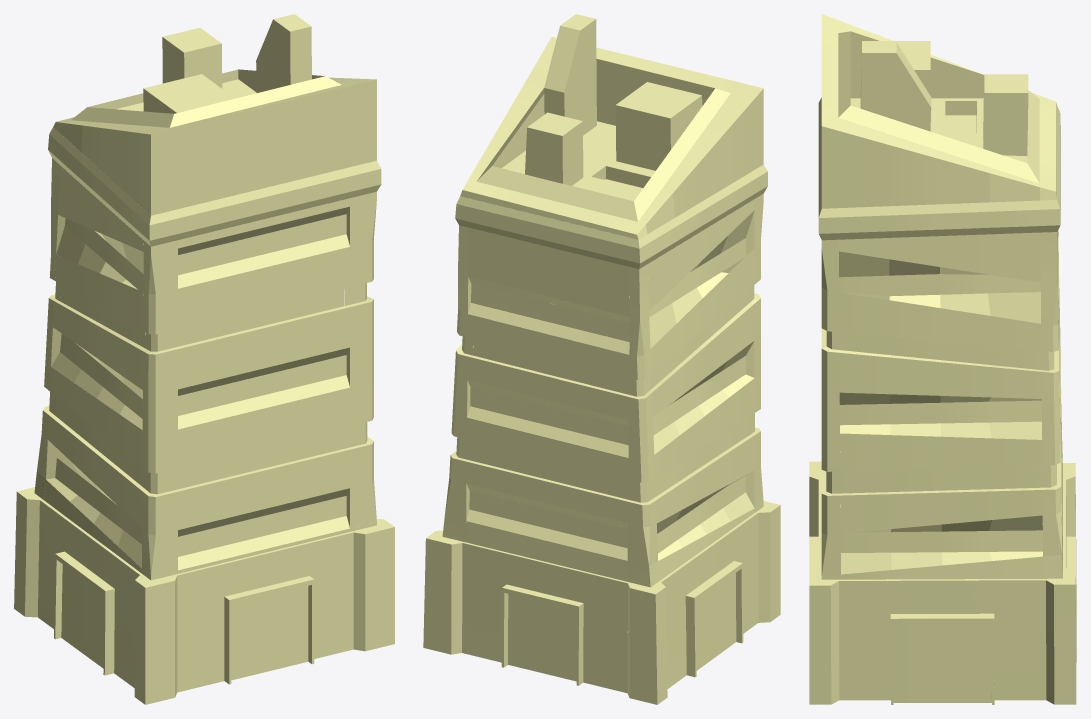
Rendered from MangaKa Props - F_S_ScifiBuilding_24.glb.
3 renders of one model, left to right at view 1: azimuth 30°, elevation 25°; view 2: azimuth 150°, elevation 25°; view 3: azimuth 270°, elevation 25°, orthographic. The views are drawn at different scales.
Visible parts, largest first — view 1: F_S_ScifiBuilding_24_blueScreen, F_S_ScifiBuilding_24004_blueScreen, F_S_ScifiBuilding_24003_blueScreen, F_S_ScifiBuilding_24001_blueScreen, F_S_ScifiBuilding_24002_blueScreen; view 2: F_S_ScifiBuilding_24_blueScreen, F_S_ScifiBuilding_24004_blueScreen, F_S_ScifiBuilding_24003_blueScreen, F_S_ScifiBuilding_24001_blueScreen, F_S_ScifiBuilding_24002_blueScreen; view 3: F_S_ScifiBuilding_24_blueScreen, F_S_ScifiBuilding_24004_blueScreen, F_S_ScifiBuilding_24003_blueScreen, F_S_ScifiBuilding_24001_blueScreen, F_S_ScifiBuilding_24002_blueScreen.
Part boxes in pixels (x1,y1,x2,y2): F_S_ScifiBuilding_24_blueScreen: (25, 77, 376, 692); F_S_ScifiBuilding_24004_blueScreen: (14, 14, 394, 704); F_S_ScifiBuilding_24003_blueScreen: (55, 214, 346, 680); F_S_ScifiBuilding_24001_blueScreen: (46, 206, 349, 570); F_S_ScifiBuilding_24002_blueScreen: (55, 284, 344, 488); F_S_ScifiBuilding_24_blueScreen: (461, 36, 763, 693); F_S_ScifiBuilding_24004_blueScreen: (423, 14, 780, 704); F_S_ScifiBuilding_24003_blueScreen: (469, 238, 745, 681); F_S_ScifiBuilding_24001_blueScreen: (466, 210, 754, 560); F_S_ScifiBuilding_24002_blueScreen: (472, 290, 748, 499); F_S_ScifiBuilding_24_blueScreen: (821, 14, 1066, 700); F_S_ScifiBuilding_24004_blueScreen: (809, 31, 1076, 704); F_S_ScifiBuilding_24003_blueScreen: (839, 274, 1042, 702); F_S_ScifiBuilding_24001_blueScreen: (839, 230, 1062, 574); F_S_ScifiBuilding_24002_blueScreen: (843, 332, 1056, 493).
Bounding box in the file's own units: 5.71 × 13.36 × 5.2.
